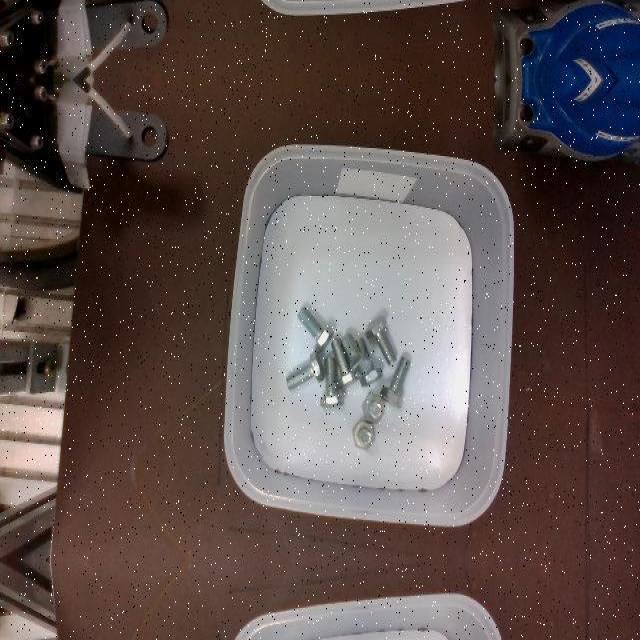screw: (296, 305, 332, 351), (380, 356, 410, 408), (366, 315, 397, 365), (286, 350, 324, 388), (341, 331, 371, 377), (319, 356, 344, 406), (362, 391, 385, 423), (352, 419, 376, 449)
